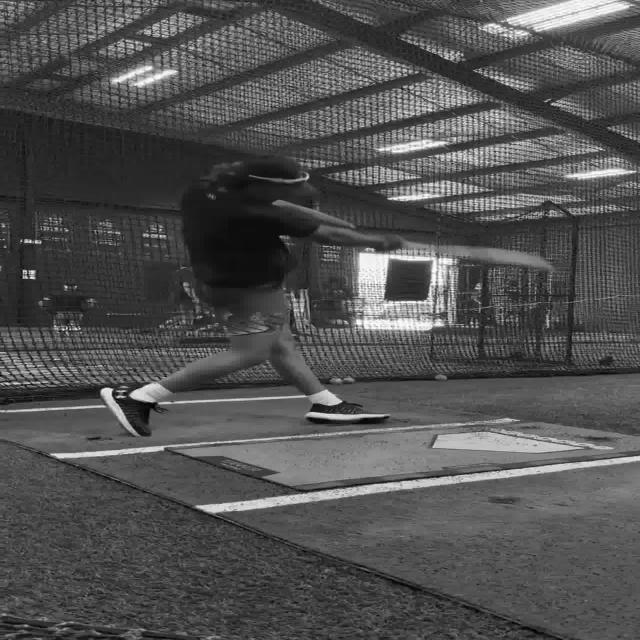base: (434, 431, 590, 453)
baseball: (434, 244, 554, 273), (328, 377, 342, 385), (434, 374, 446, 381), (342, 377, 354, 384)
baseball_glove: (373, 232, 407, 252)
shoe: (99, 384, 161, 437), (304, 400, 390, 424)
